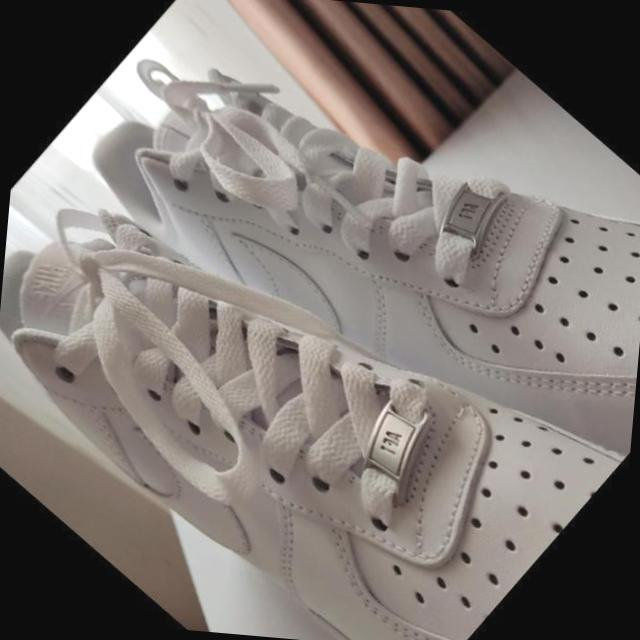nike_original_airforce: (0, 32, 640, 640), (26, 0, 640, 582)
